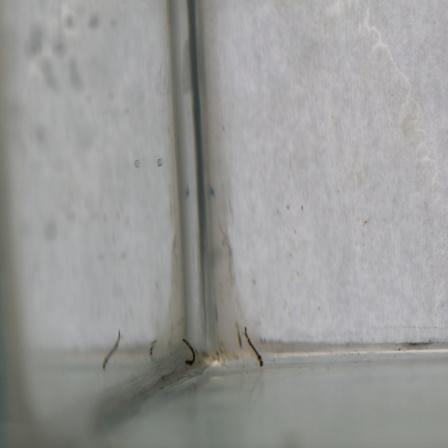Jentik-Nyamuk: (242, 323, 266, 371), (179, 336, 200, 369)
